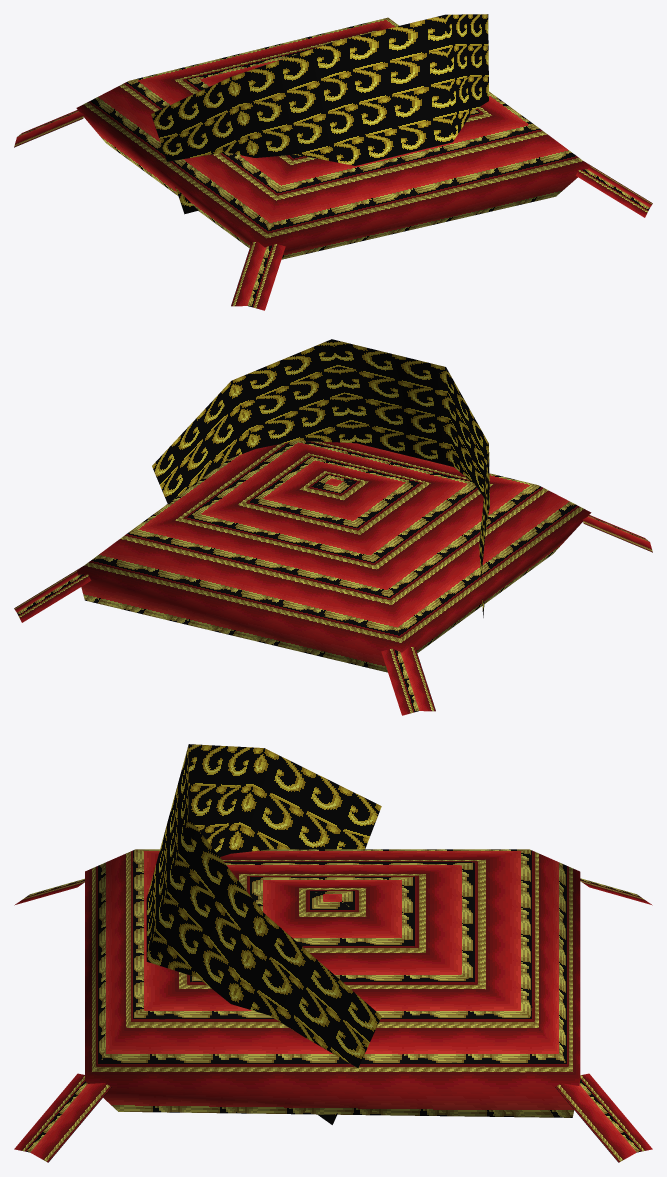
The model's file is tiara.gltf.
3 views of the same model, one above another, from view 1: azimuth 30°, elevation 25°; view 2: azimuth 150°, elevation 25°; view 3: azimuth 270°, elevation 25° (orthographic). The views are drawn at different scales.
Visible parts, largest first — view 1: tiara; view 2: tiara; view 3: tiara.
Boxes of the visible parts, bbox=[...] form: tiara: bbox=[14, 14, 652, 310]; tiara: bbox=[14, 339, 652, 715]; tiara: bbox=[14, 744, 652, 1162].
Size of the model in its own units: 0.998 by 0.4277 by 0.9946.
2 materials, 2 textured.
